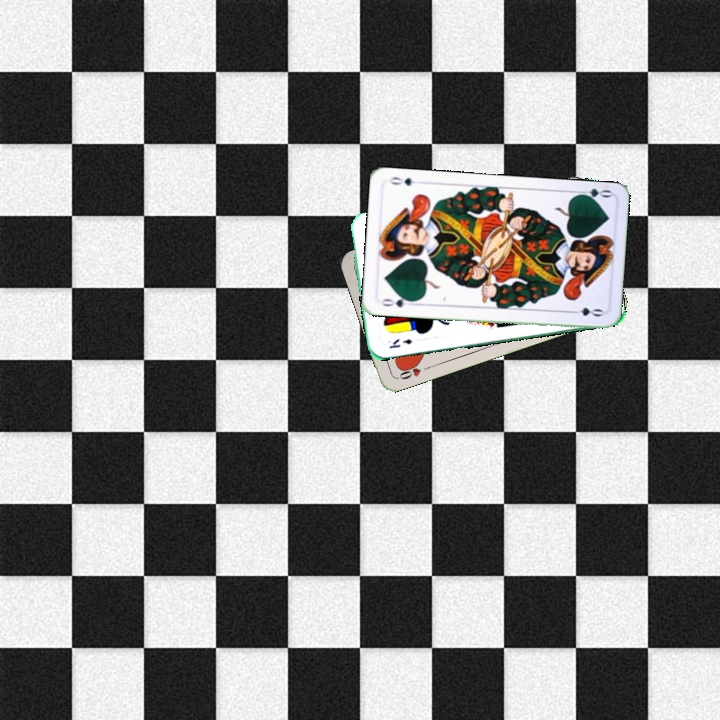EK: (385, 335, 415, 351)
GO: (572, 184, 613, 204), (376, 292, 417, 310)
HO: (394, 358, 433, 382)
